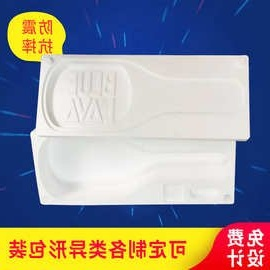5/可回收垃圾/泡沫: (36, 53, 251, 142), (30, 126, 236, 206)
